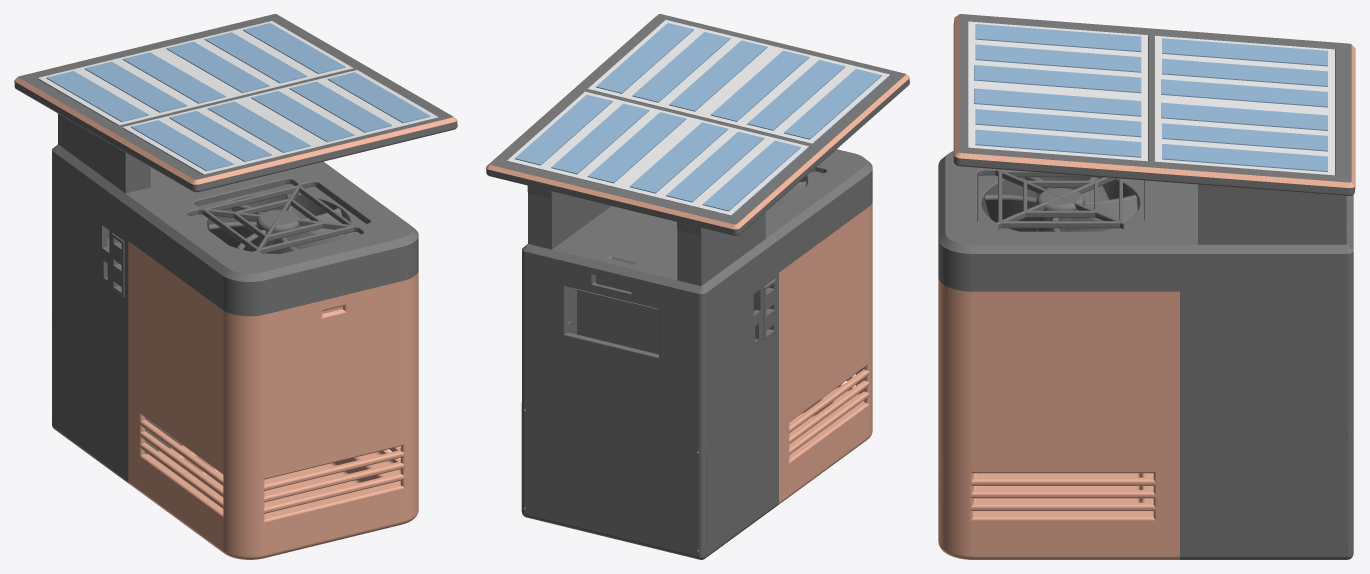
File: putmc.glb
3 renders of one model, left to right at view 1: azimuth 30°, elevation 25°; view 2: azimuth 150°, elevation 25°; view 3: azimuth 270°, elevation 25°, orthographic. The views are drawn at different scales.
Parts seen in each view (by area): view 1: ID11, ID54, ID75_node, ID75, ID84, ID68, ID91, ID33, ID19, ID3, ID61; view 2: ID68, ID11, ID40, ID75_node, ID75, ID84, ID91, ID47, ID54, ID33, ID33_node, ID61; view 3: ID11, ID68, ID91, ID54, ID75_node, ID75, ID84, ID33_node, ID19, ID3, ID61, ID40 (+1 smaller).
Part boxes in pixels (bbox=[...]): ID11: bbox=[128, 241, 418, 559]; ID54: bbox=[129, 161, 418, 316]; ID75_node: bbox=[122, 70, 438, 174]; ID75: bbox=[37, 21, 353, 125]; ID84: bbox=[14, 14, 457, 192]; ID68: bbox=[52, 144, 109, 456]; ID91: bbox=[91, 173, 182, 484]; ID33: bbox=[58, 113, 150, 193]; ID19: bbox=[208, 194, 345, 253]; ID3: bbox=[190, 184, 365, 256]; ID61: bbox=[136, 241, 418, 314]; ID68: bbox=[522, 222, 743, 559]; ID11: bbox=[778, 202, 872, 504]; ID40: bbox=[521, 402, 706, 556]; ID75_node: bbox=[588, 20, 890, 143]; ID75: bbox=[507, 91, 808, 215]; ID84: bbox=[486, 14, 909, 235]; ID91: bbox=[567, 206, 783, 530]; ID47: bbox=[551, 207, 677, 288]; ID54: bbox=[755, 149, 872, 293]; ID33: bbox=[677, 212, 765, 285]; ID33_node: bbox=[527, 188, 610, 249]; ID61: bbox=[786, 197, 872, 264]; ID11: bbox=[938, 277, 1179, 559]; ID68: bbox=[1261, 228, 1353, 559]; ID91: bbox=[1169, 228, 1261, 559]; ID54: bbox=[938, 151, 1190, 291]; ID75_node: bbox=[968, 21, 1147, 161]; ID75: bbox=[1155, 35, 1334, 175]; ID84: bbox=[953, 14, 1355, 195]; ID33_node: bbox=[1198, 184, 1346, 244]; ID19: bbox=[984, 177, 1137, 231]; ID3: bbox=[977, 169, 1143, 231]; ID61: bbox=[945, 279, 1161, 291]; ID40: bbox=[1346, 428, 1353, 555].
Size of the model in its own units: 0.2429 by 0.3396 by 0.3004.
